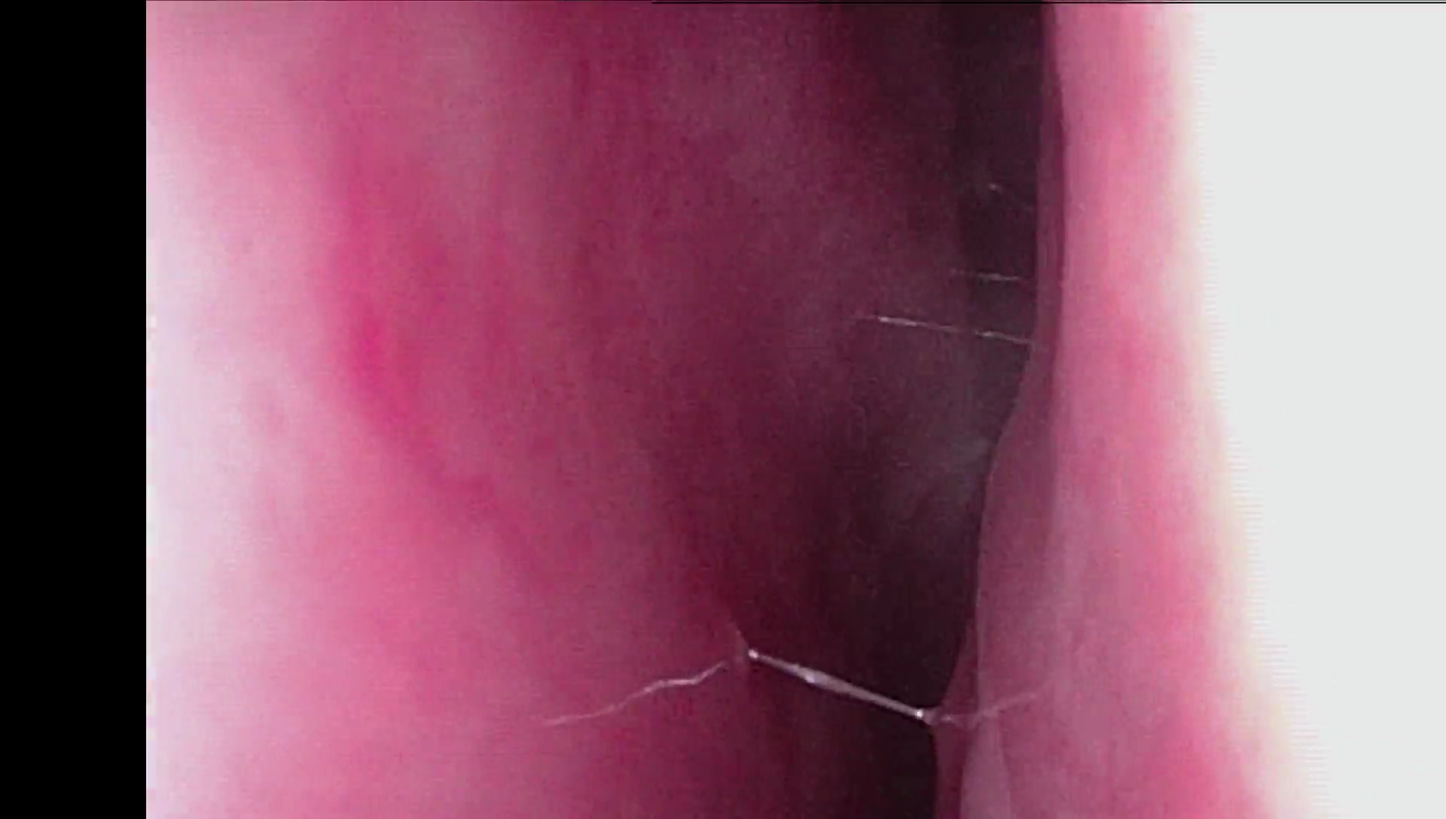close_wall: (158, 14, 547, 819), (1089, 8, 1427, 819)
next: (803, 593, 982, 819)
